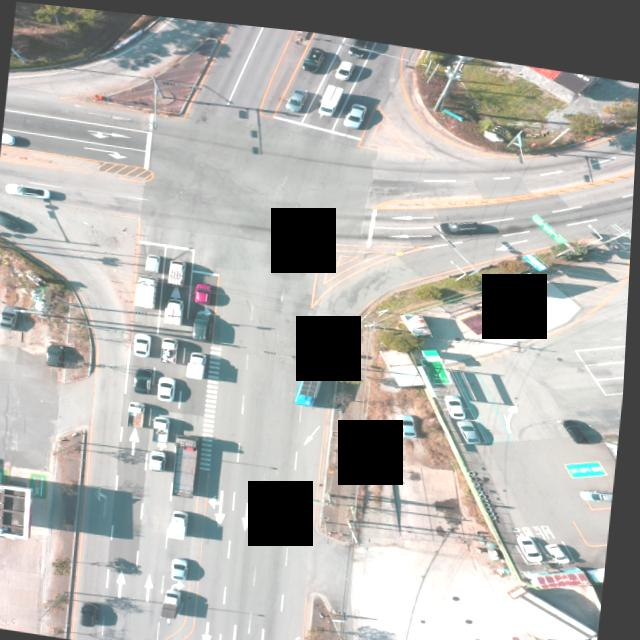car: (436, 205, 490, 232), (562, 406, 596, 432), (521, 525, 551, 552), (0, 209, 31, 233), (7, 183, 54, 198), (195, 304, 217, 336), (462, 410, 488, 435), (1, 303, 25, 330), (346, 96, 370, 122), (446, 385, 470, 410), (86, 598, 108, 625), (303, 38, 325, 65), (138, 363, 158, 392), (552, 531, 579, 552), (287, 81, 308, 107), (350, 30, 376, 51), (584, 475, 618, 491), (161, 371, 181, 396), (402, 403, 422, 427), (48, 342, 68, 366), (137, 330, 156, 354), (177, 554, 195, 578), (336, 52, 355, 73), (197, 278, 215, 300), (154, 447, 171, 469), (149, 250, 165, 271), (3, 131, 19, 146)
large_bus: (302, 352, 332, 402)
medium_truck: (512, 577, 605, 631), (179, 437, 204, 495), (136, 273, 161, 306)
small_truck: (319, 76, 346, 110), (168, 581, 190, 613), (174, 503, 196, 535), (190, 348, 213, 376), (156, 411, 176, 440), (169, 256, 189, 284), (166, 333, 186, 361), (168, 293, 188, 320), (132, 397, 151, 425)
